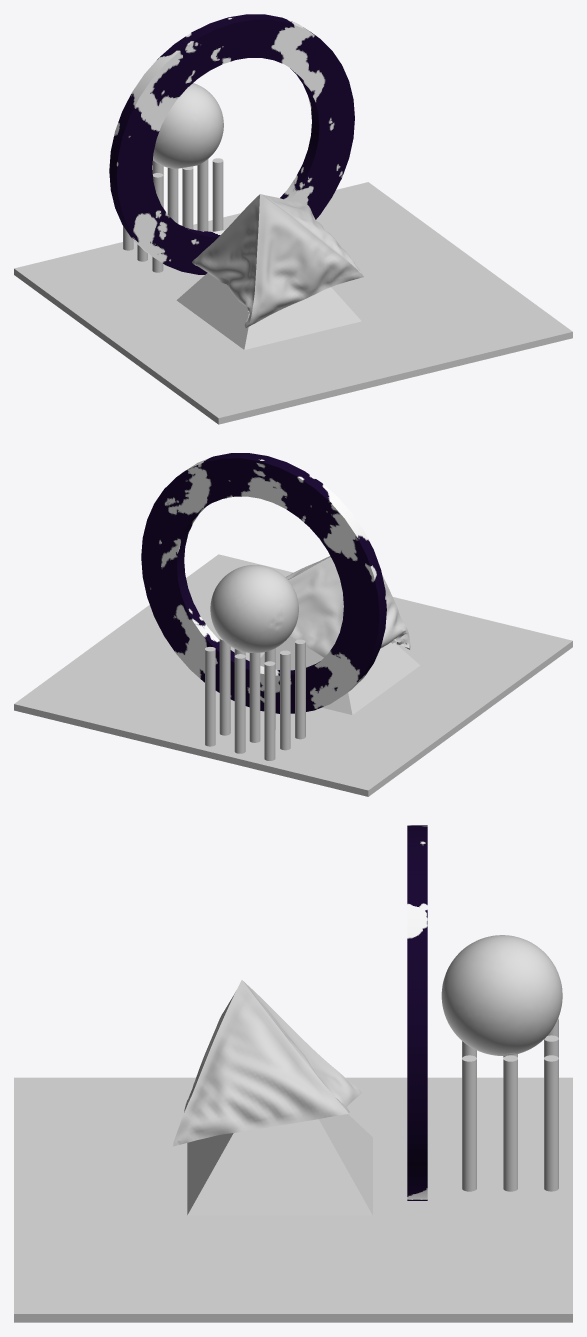
Rendered from SLS_201220.glb.
The picture shows the model from 3 angles, top to bottom: view 1: azimuth 30°, elevation 25°; view 2: azimuth 150°, elevation 25°; view 3: azimuth 270°, elevation 25°; orthographic projection. The views are drawn at different scales.
Parts seen in each view (by area): view 1: Cube, Tube_1, Connect_2, Pyramid, Connect, Connect_1; view 2: Cube, Tube_1, Connect_1, Connect, Connect_2, Pyramid; view 3: Cube, Pyramid, Connect_2, Connect, Tube_1, Connect_1.
Boxes of the visible parts, <box> form: Cube: <box>14,182,572,424</box>; Tube_1: <box>109,14,354,274</box>; Connect_2: <box>192,194,363,327</box>; Pyramid: <box>176,273,361,349</box>; Connect: <box>153,83,223,168</box>; Connect_1: <box>123,158,223,272</box>; Cube: <box>14,554,572,796</box>; Tube_1: <box>141,453,386,713</box>; Connect_1: <box>205,637,305,760</box>; Connect: <box>210,565,298,652</box>; Connect_2: <box>285,556,410,657</box>; Pyramid: <box>260,636,419,714</box>; Cube: <box>14,1077,572,1322</box>; Pyramid: <box>187,1114,372,1215</box>; Connect_2: <box>172,980,361,1146</box>; Connect: <box>441,935,562,1055</box>; Tube_1: <box>407,825,427,1200</box>; Connect_1: <box>462,1018,558,1191</box>.
Size of the model in its own units: 15.19 by 10.54 by 15.19.
1 material, 1 textured.
